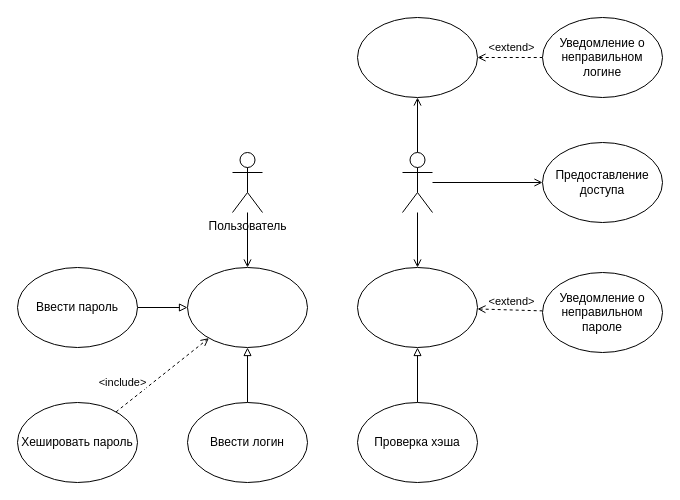
This 680x500 diagram has some shape labels left out. Each missing label, with the centre of its shape:
"Поиск логина в базе данных" goes at [417,57].
"Попытка авторизации" goes at [247,307].
"Проверка правильности пароля" goes at [417,307].
"Система" goes at [417,182].
